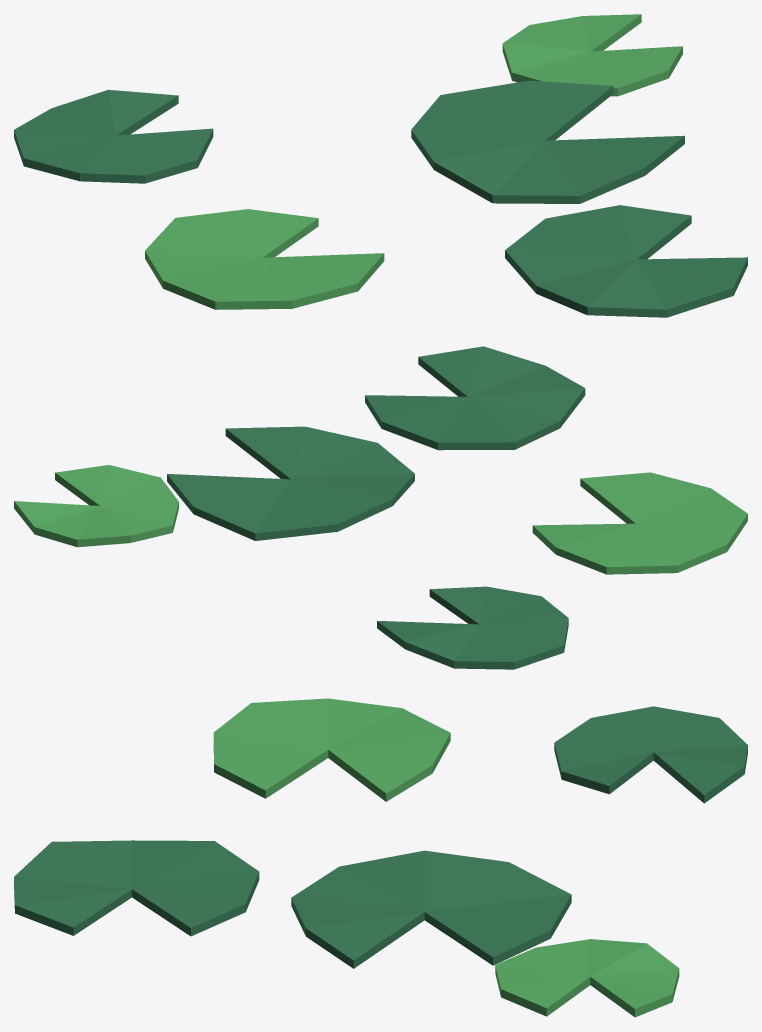
The model's file is lily_pad_a.glb.
The picture shows the model from 3 angles, top to bottom: view 1: azimuth 30°, elevation 25°; view 2: azimuth 150°, elevation 25°; view 3: azimuth 270°, elevation 25°; orthographic projection. The views are drawn at different scales.
Parts seen in each view (by area): view 1: LilyPadA; view 2: LilyPadA; view 3: LilyPadA.
Part boxes in pixels (left/top/right/bottom): LilyPadA: left=14, top=14, right=747, bottom=317; LilyPadA: left=14, top=346, right=747, bottom=669; LilyPadA: left=14, top=698, right=747, bottom=1017.
Size of the model in its own units: 0.7798 by 0.0214 by 0.769.
